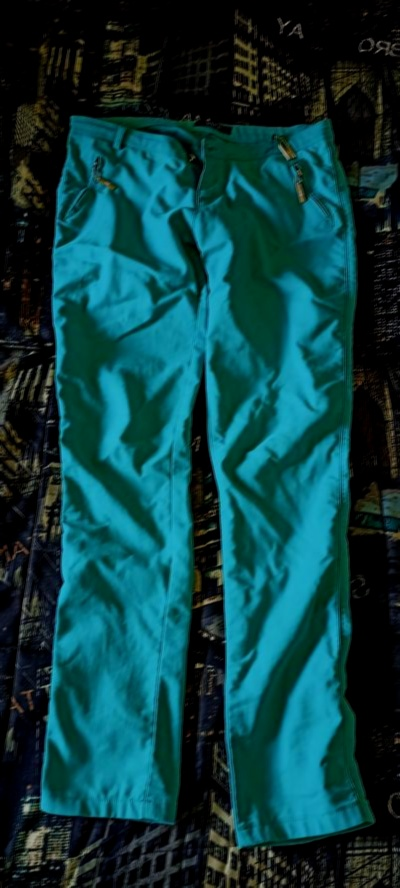Pants: (27, 90, 380, 836)
